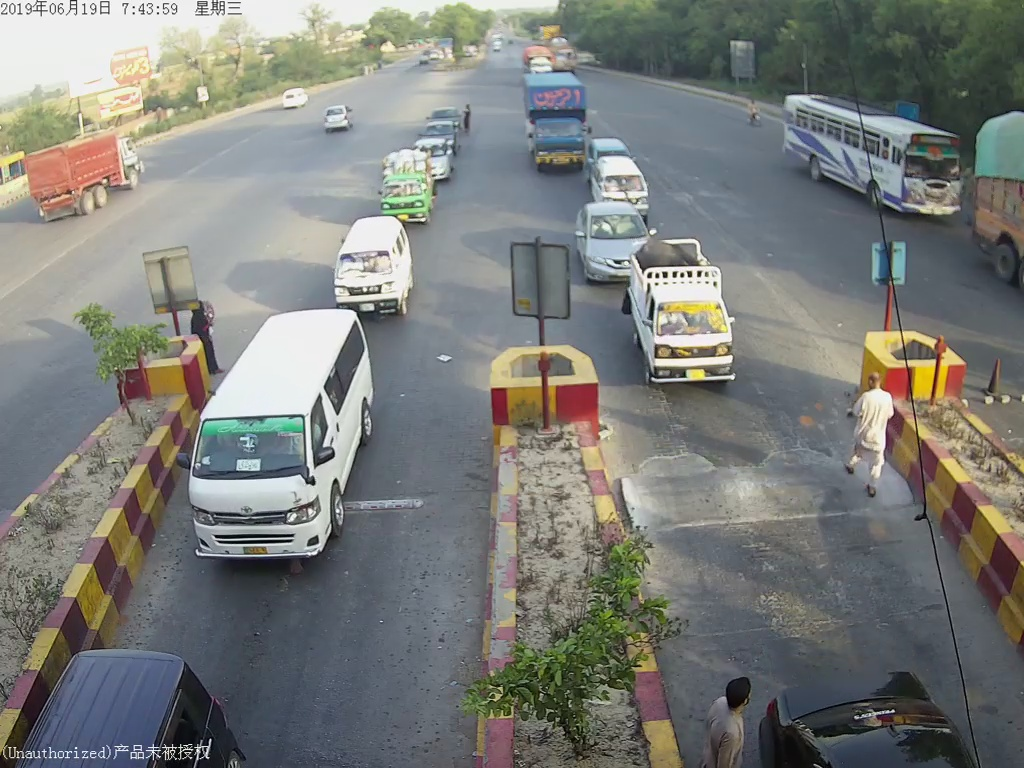Cat-1: (626, 246, 741, 390), (329, 222, 414, 310)
Cat-2: (199, 310, 378, 566), (525, 78, 593, 178)
